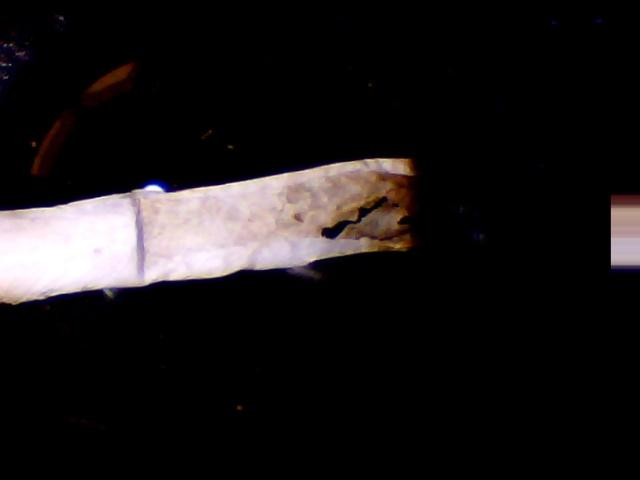megot: (1, 134, 447, 309)
